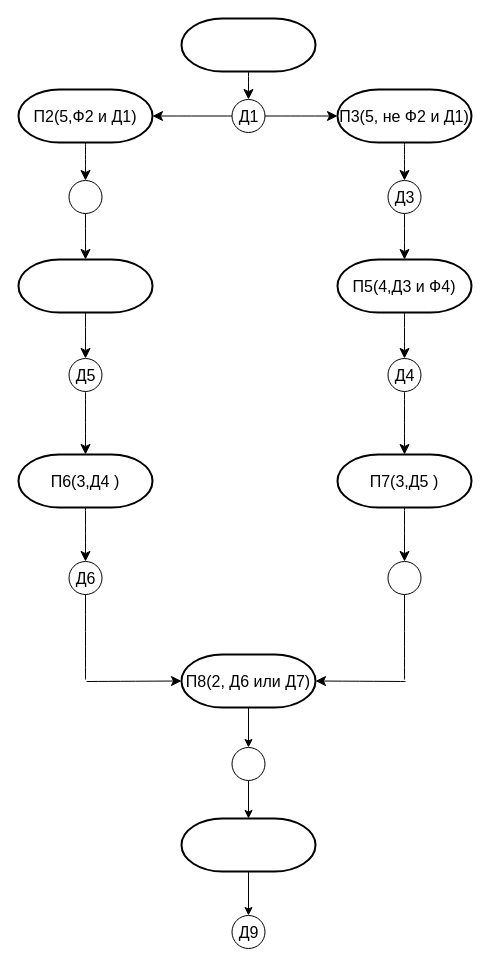
This 489x966 diagram has some shape labels left out. The shapes that lost their labels are listed below. From the top down, each one's centre as x and y in pixels, then its label:
At pixel 248 44: "П1(6, Ф1 и Ф3)".
At pixel 85 197: "Д2".
At pixel 85 285: "П4(4,Д2 и Ф4)".
At pixel 404 577: "Д7".
At pixel 248 763: "Д8".
At pixel 248 844: "П9(1, Д8)".
